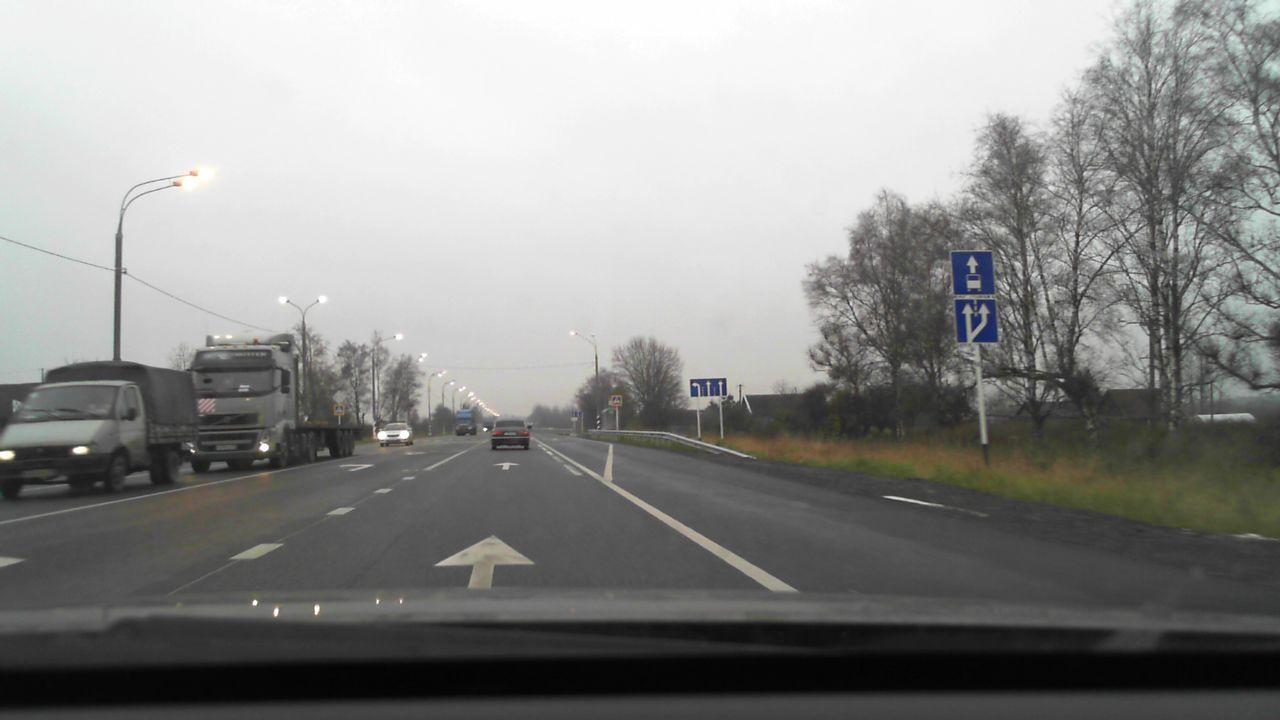5_14_1: (950, 250, 994, 295)
5_15_1: (689, 378, 729, 398)
5_15_3: (955, 297, 997, 344)
5_19_1: (611, 396, 623, 405)
5_19_2: (333, 404, 344, 415)
